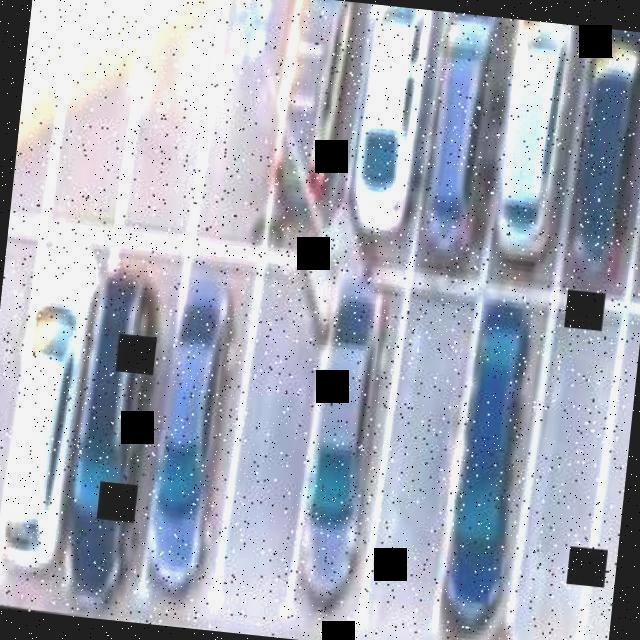car: (296, 303, 392, 616), (444, 312, 538, 593), (0, 255, 88, 540), (148, 281, 232, 578), (74, 272, 160, 556), (265, 0, 366, 240), (412, 11, 506, 262), (486, 18, 577, 258), (351, 4, 442, 219), (572, 27, 640, 254), (596, 350, 638, 602)
free: (510, 322, 622, 620), (232, 330, 320, 588), (373, 352, 458, 600), (203, 0, 292, 211), (65, 0, 150, 189), (138, 0, 216, 176), (12, 0, 64, 187), (0, 278, 23, 529)
